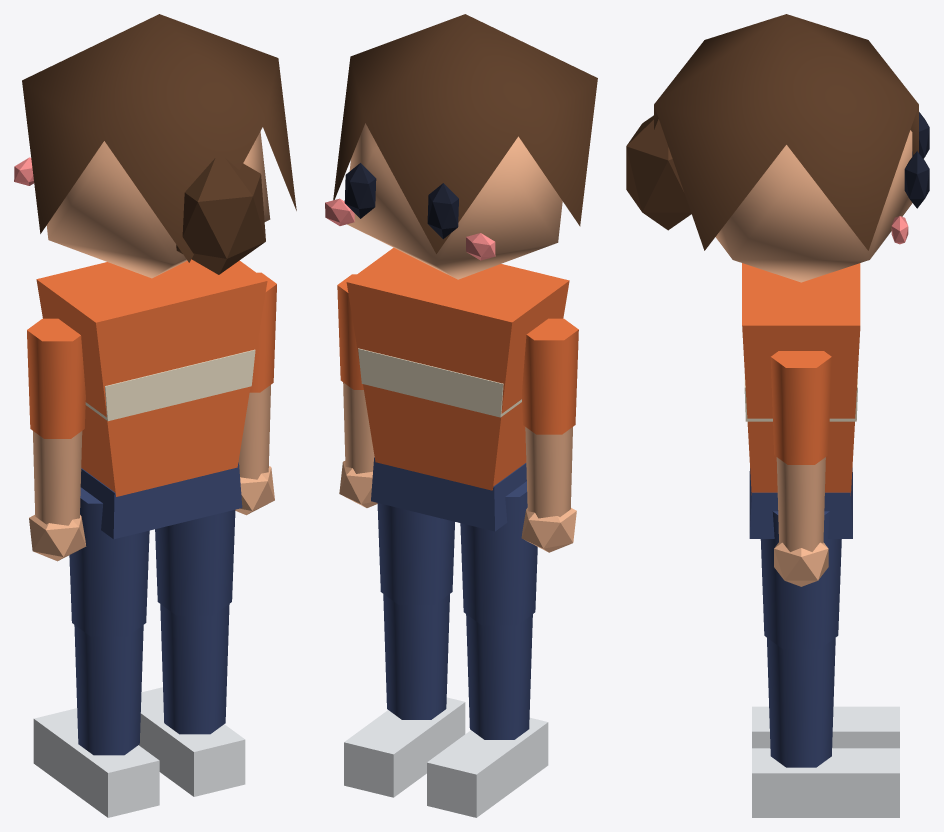
The model's file is spectator.glb.
The picture shows the model from 3 angles, left to right: view 1: azimuth 30°, elevation 25°; view 2: azimuth 150°, elevation 25°; view 3: azimuth 270°, elevation 25°; orthographic projection. The views are drawn at different scales.
Parts seen in each view (by area): view 1: HairMesh, TorsoMesh, HeadMesh, ThighL, CalfR, CalfL, ShoeL, HairBack, ThighR, Hips, ShoeR, SleeveL (+6 smaller); view 2: HairMesh, TorsoMesh, HeadMesh, ThighL, ShoeL, CalfL, CalfR, ShoeR, ThighR, Hips, SleeveL, TorsoBand (+9 smaller); view 3: HairMesh, TorsoMesh, HeadMesh, ShoeR, CalfR, ThighR, SleeveR, HairBack, ForearmR, ShoeL, Hips, HandR (+1 smaller).
Boxes of the visible parts, x1=… form: HairMesh: x1=22, y1=14, x2=296, y2=262; TorsoMesh: x1=36, y1=259, x2=267, y2=496; HeadMesh: x1=46, y1=131, x2=270, y2=278; ThighL: x1=69, y1=487, x2=149, y2=636; CalfR: x1=160, y1=604, x2=229, y2=734; CalfL: x1=74, y1=625, x2=143, y2=755; ShoeL: x1=33, y1=708, x2=159, y2=817; HairBack: x1=176, y1=157, x2=265, y2=274; ThighR: x1=155, y1=510, x2=235, y2=615; Hips: x1=80, y1=462, x2=242, y2=539; ShoeR: x1=139, y1=687, x2=245, y2=796; SleeveL: x1=27, y1=318, x2=85, y2=438; HairMesh: x1=333, y1=14, x2=597, y2=253; TorsoMesh: x1=346, y1=247, x2=569, y2=490; HeadMesh: x1=347, y1=123, x2=562, y2=279; ThighL: x1=460, y1=481, x2=537, y2=625; ShoeL: x1=427, y1=717, x2=548, y2=817; CalfL: x1=466, y1=614, x2=532, y2=739; CalfR: x1=383, y1=594, x2=449, y2=719; ShoeR: x1=344, y1=697, x2=465, y2=797; ThighR: x1=377, y1=503, x2=454, y2=604; Hips: x1=371, y1=457, x2=526, y2=531; SleeveL: x1=522, y1=318, x2=578, y2=434; TorsoBand: x1=358, y1=348, x2=521, y2=417; HairMesh: x1=654, y1=14, x2=918, y2=250; TorsoMesh: x1=742, y1=263, x2=860, y2=495; HeadMesh: x1=715, y1=130, x2=912, y2=282; ShoeR: x1=752, y1=748, x2=899, y2=817; CalfR: x1=767, y1=638, x2=835, y2=767; ThighR: x1=760, y1=511, x2=841, y2=649; SleeveR: x1=770, y1=351, x2=831, y2=464; HairBack: x1=626, y1=115, x2=691, y2=230; ForearmR: x1=776, y1=457, x2=825, y2=551; ShoeL: x1=752, y1=706, x2=899, y2=748; Hips: x1=749, y1=468, x2=852, y2=538; HandR: x1=774, y1=542, x2=828, y2=586.
Bounding box in the file's own units: 0.5563 × 1.72 × 0.6156.
